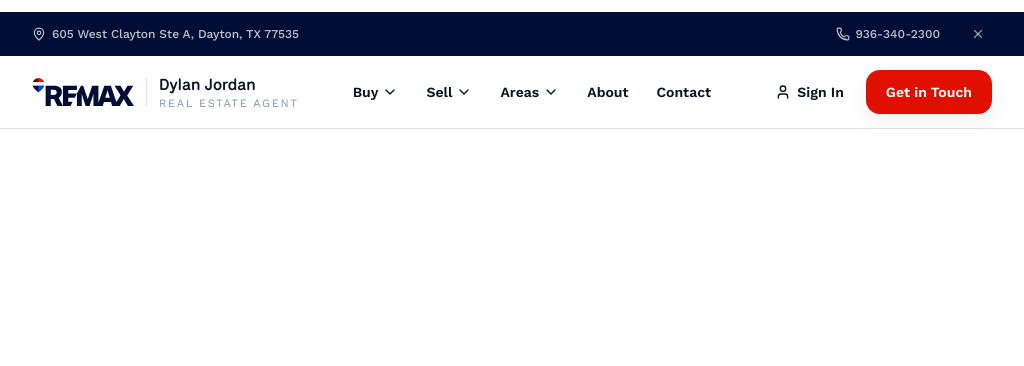
it: header menus › opens the sell panel onto the valuation section
What coordinates should you click on to do the following:
click the button "Sell"
I would click on:
 (449, 92)
Its box is [426, 70, 472, 114].
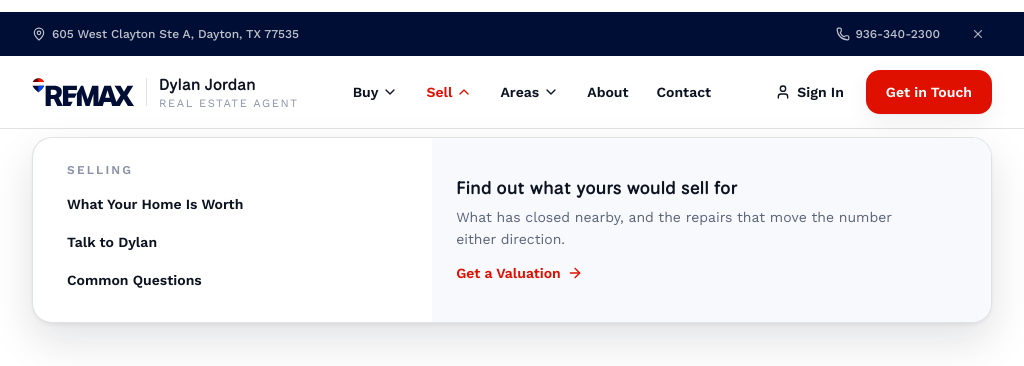
Expected: the button "Sell" is expanded, [426, 70, 472, 114]
